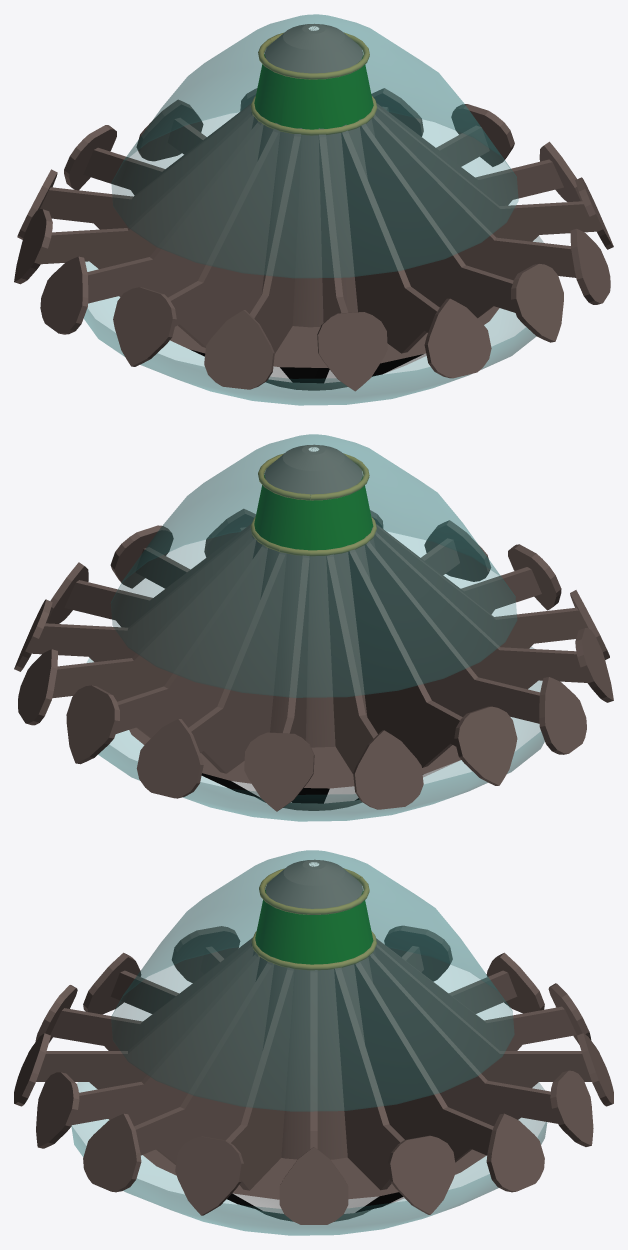
File: ufonorm.dae
3 renders of one model, top to bottom at view 1: azimuth 30°, elevation 25°; view 2: azimuth 150°, elevation 25°; view 3: azimuth 270°, elevation 25°, orthographic.
Parts seen in each view (by area): view 1: TOP_Glass, Component_1 (×14), Component_3 (×25), UFO_BODY_COMPLETE (×8), BOTTOM_GLASS; view 2: TOP_Glass, Component_1 (×14), Component_3 (×25), UFO_BODY_COMPLETE (×8), BOTTOM_GLASS; view 3: TOP_Glass, Component_1 (×13), Component_3 (×24), UFO_BODY_COMPLETE (×8), BOTTOM_GLASS.
Part boxes in pixels (box(x1,y1,x2,y2)): TOP_Glass: box(111, 14, 518, 277); Component_1 (×14): box(40, 103, 596, 353); Component_3 (×25): box(14, 88, 613, 391); UFO_BODY_COMPLETE (×8): box(170, 23, 499, 383); BOTTOM_GLASS: box(84, 236, 543, 405); TOP_Glass: box(111, 434, 516, 697); Component_1 (×14): box(32, 523, 587, 773); Component_3 (×25): box(14, 509, 613, 811); UFO_BODY_COMPLETE (×8): box(129, 444, 460, 810); BOTTOM_GLASS: box(87, 647, 544, 821); TOP_Glass: box(111, 850, 514, 1111); Component_1 (×13): box(36, 937, 591, 1190); Component_3 (×24): box(14, 925, 613, 1224); UFO_BODY_COMPLETE (×8): box(143, 859, 486, 1199); BOTTOM_GLASS: box(71, 1082, 547, 1235).
Size of the model in its own units: 250 by 250 by 155.
